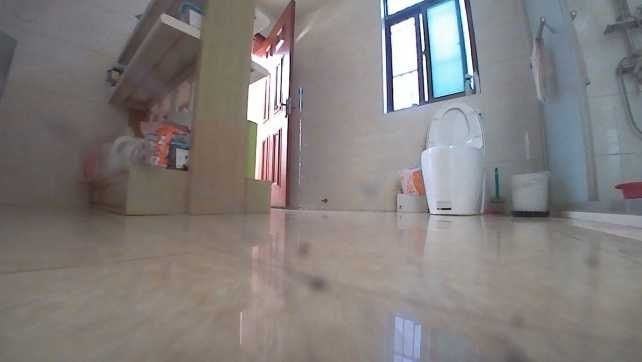toilet: (419, 99, 490, 219)
trash_can: (506, 164, 554, 219)
